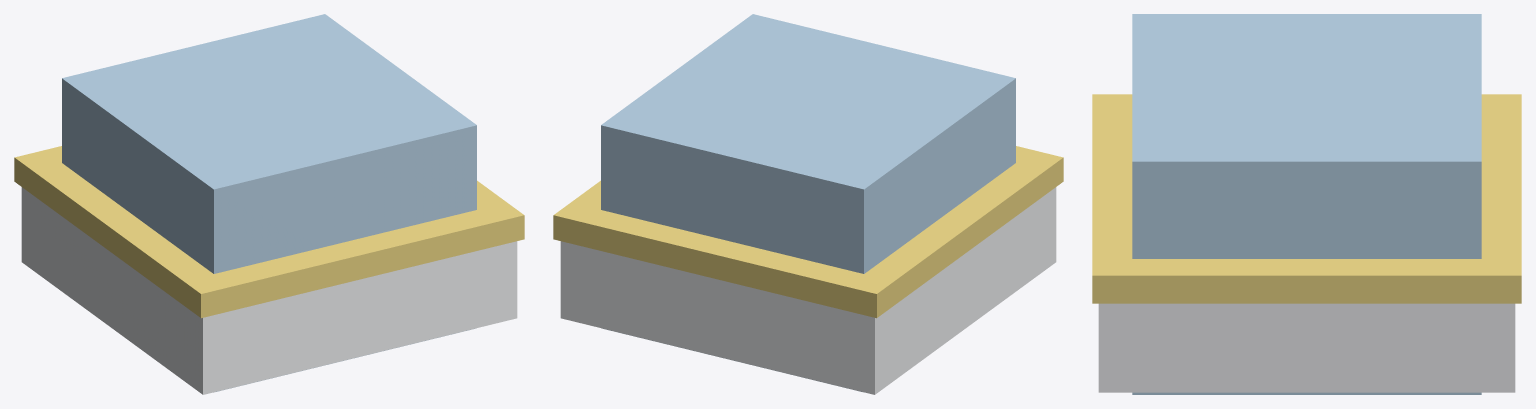
File: pirata_neve_manga_inf.glb
3 renders of one model, left to right at view 1: azimuth 30°, elevation 25°; view 2: azimuth 150°, elevation 25°; view 3: azimuth 270°, elevation 25°, orthographic. The views are drawn at different scales.
Visible parts, largest first — view 1: pirata_neve_manga_inf; view 2: pirata_neve_manga_inf; view 3: pirata_neve_manga_inf.
Boxes of the visible parts, x1,y1,x2,y2 form: pirata_neve_manga_inf: (14,14,524,394); pirata_neve_manga_inf: (553,14,1063,394); pirata_neve_manga_inf: (1092,14,1521,394).
Size of the model in its own units: 0.35 by 0.21 by 0.35.
